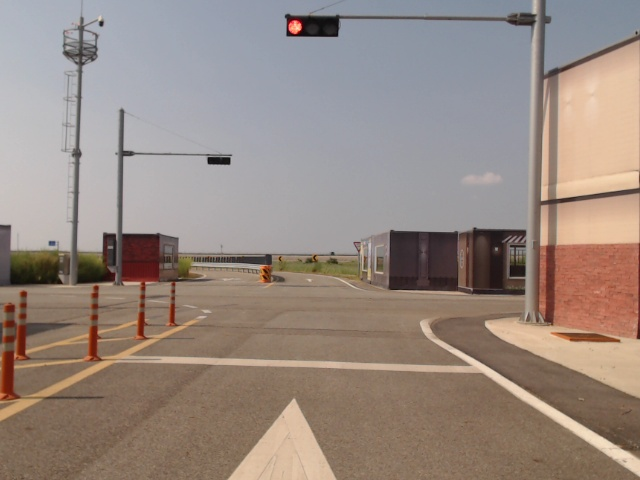red_3: (285, 16, 340, 36)
